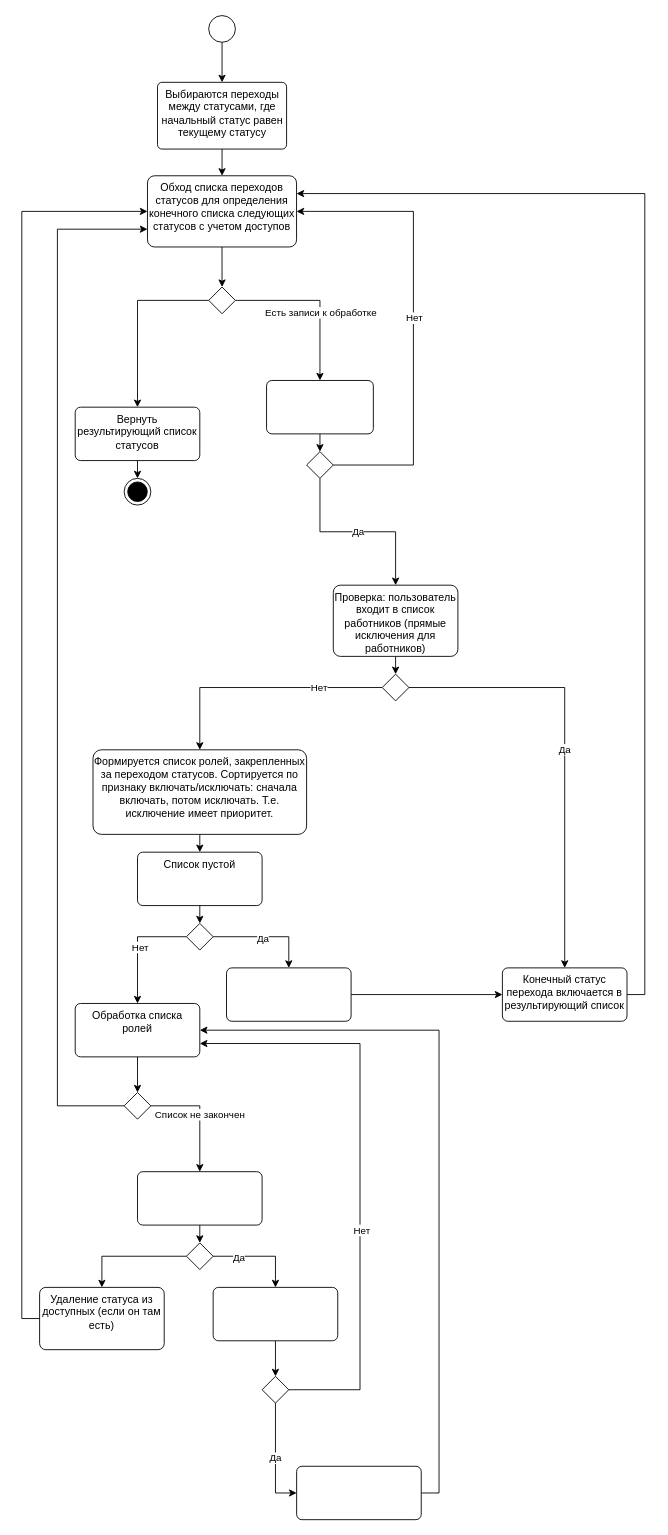
This 668x1535 diagram has some shape labels left out. The shapes that lost their labels are listed below. From the top down, each one's centre as x and y in pixels, then its label:
(319,407): Для перехода указан список работников
(288,994): Переход разрешен всем ролям по умолчанию
(199,1198): Роль имеет разрешениее для перехода в статус
(275,1313): У пользователя роль, которая в списке разрешений
(358,1492): Помечаем статус как доступный
